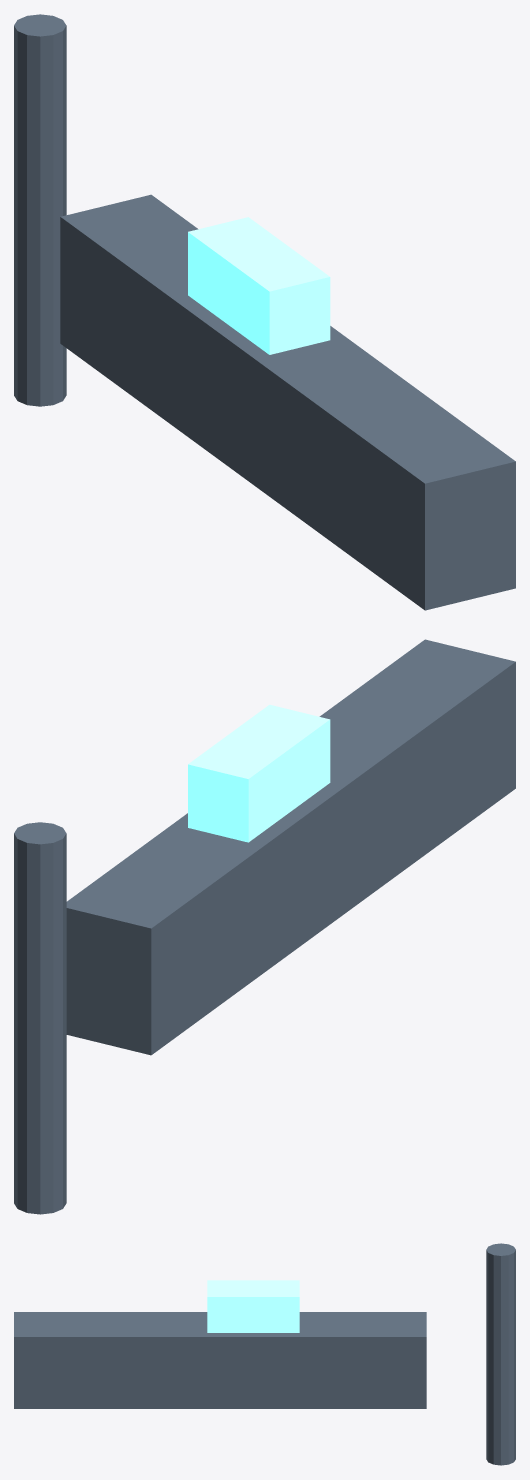
File: vector_rifle.glb
3 renders of one model, top to bottom at view 1: azimuth 30°, elevation 25°; view 2: azimuth 150°, elevation 25°; view 3: azimuth 270°, elevation 25°, orthographic. The views are drawn at different scales.
Parts seen in each view (by area): view 1: receiver, barrel, optic; view 2: receiver, barrel, optic; view 3: receiver, barrel, optic.
Part boxes in pixels (bbox=[...]): receiver: bbox=[60, 194, 515, 610]; barrel: bbox=[14, 14, 66, 406]; optic: bbox=[188, 217, 330, 354]; receiver: bbox=[66, 639, 515, 1055]; barrel: bbox=[14, 822, 66, 1214]; optic: bbox=[188, 704, 330, 842]; receiver: bbox=[14, 1312, 426, 1408]; barrel: bbox=[486, 1243, 515, 1465]; optic: bbox=[207, 1280, 299, 1332].
Size of the model in its own units: 0.18 by 0.7 by 1.52.
